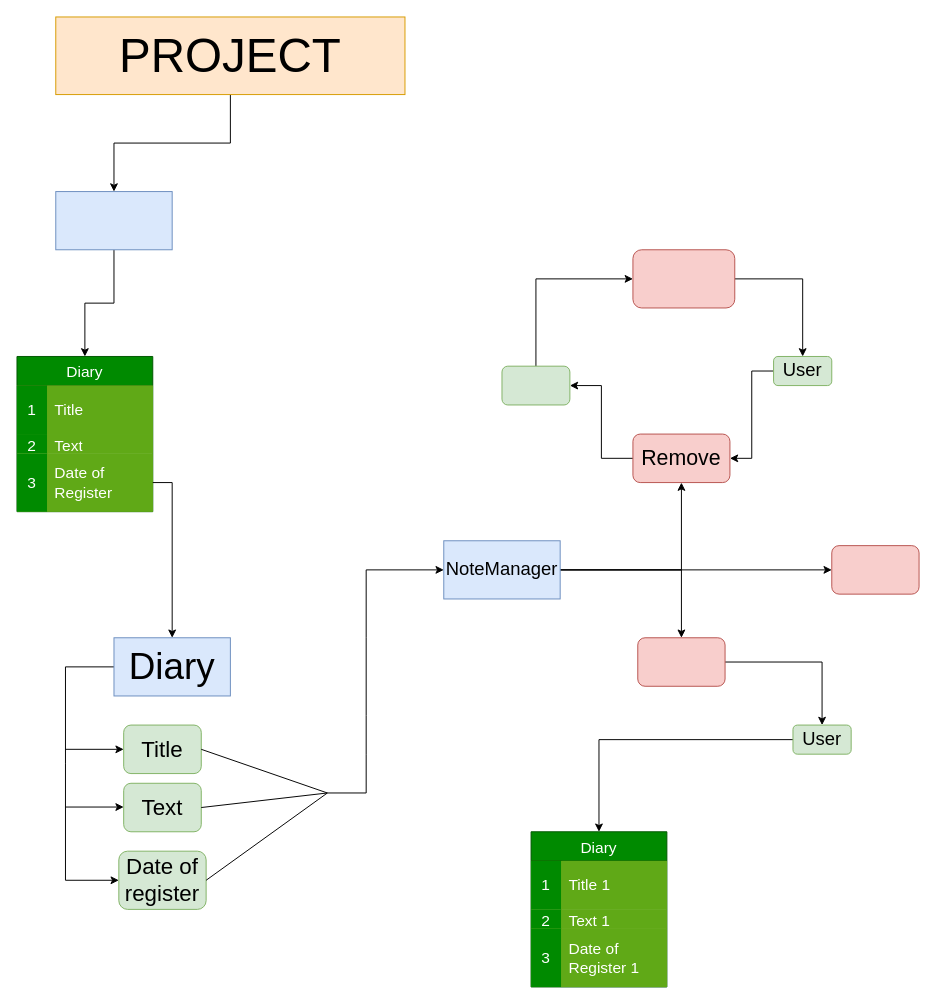
Image size: 936x1004. Some labels were removed from this diagram. The centre of each missing label's shape, as x and y in pixels:
"Add" goes at [681,661].
"Edit" goes at [875,569].
"FindByTitlte" goes at [683,278].
"Main" goes at [113,220].
"Name of Title" goes at [535,385].
